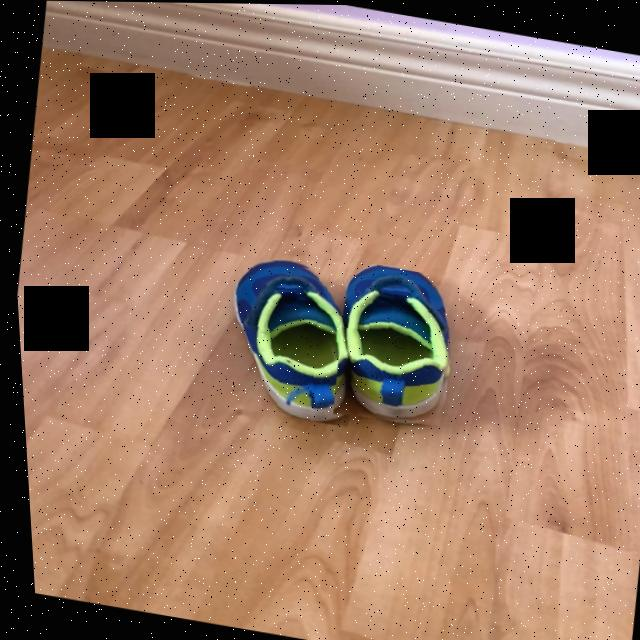shoe: (229, 262, 349, 423), (339, 265, 446, 421)
